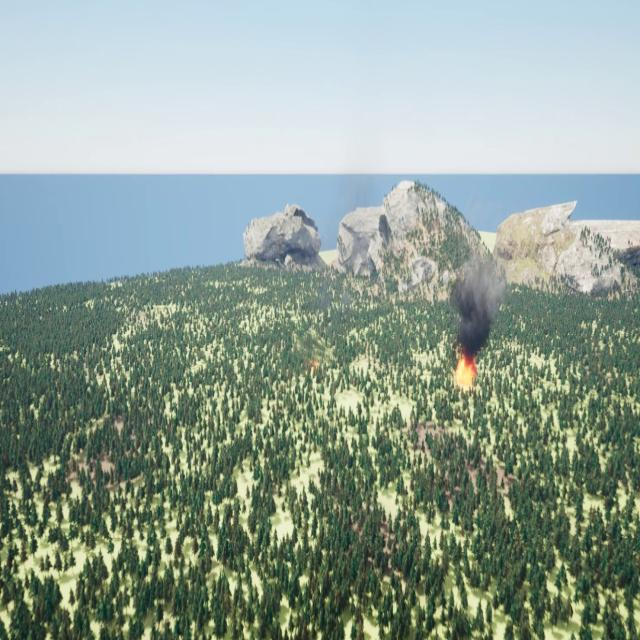fire: (453, 350, 480, 384)
smoke: (451, 265, 505, 353)
